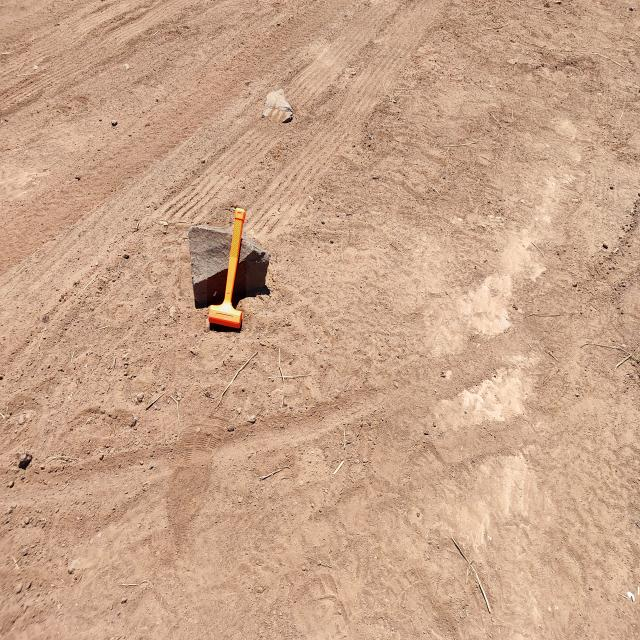Orange_hammer: (207, 206, 246, 331)
